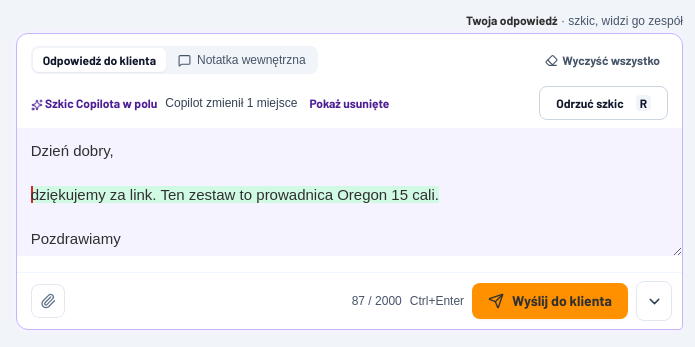
it: poprawka Copilota w polu › pierwsza litera agenta zdejmuje podświetlenie i linię w pasku
Type "!" into the text box named "Szkic odpowiedzi" at (349, 192), box [17,128,682,256]
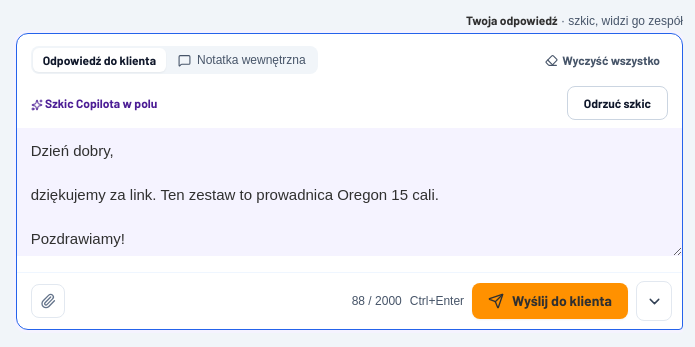
Expected: the element with test id "lustro-poprawki" is gone
Expected: the text "Copilot zmienił" is gone
